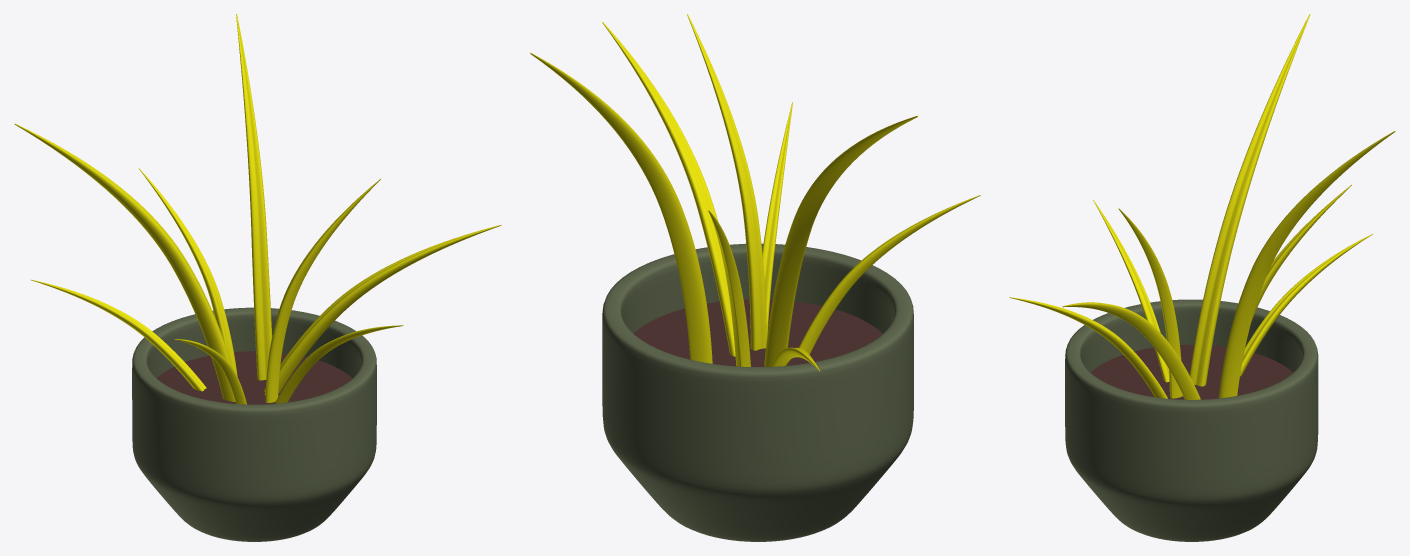
The model's file is Plant.fbx.
3 renders of one model, left to right at view 1: azimuth 30°, elevation 25°; view 2: azimuth 150°, elevation 25°; view 3: azimuth 270°, elevation 25°, orthographic. The views are drawn at different scales.
Parts seen in each view (by area): view 1: Plant.001; view 2: Plant.001; view 3: Plant.001.
Part boxes in pixels (bbox=[...]): Plant.001: bbox=[14, 14, 501, 541]; Plant.001: bbox=[530, 14, 980, 541]; Plant.001: bbox=[1009, 14, 1395, 541].
Size of the model in its own units: 117 by 125 by 103.
